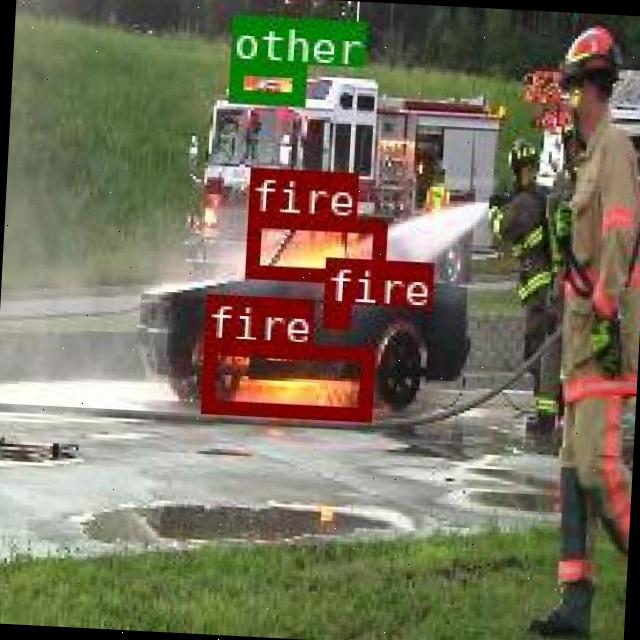fire: (198, 338, 370, 418), (244, 211, 384, 283), (320, 302, 350, 326)
